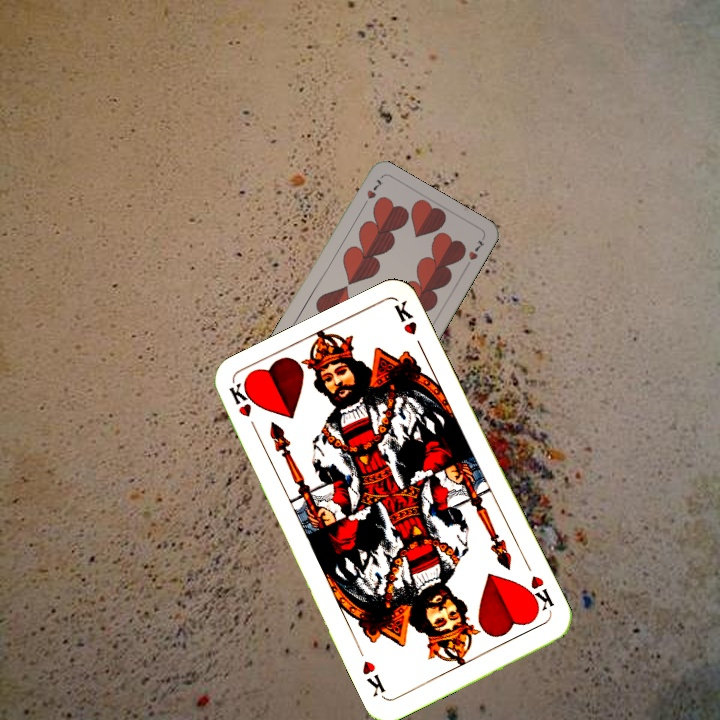H7: (358, 175, 386, 210)
HK: (225, 379, 261, 437), (521, 571, 557, 616)
